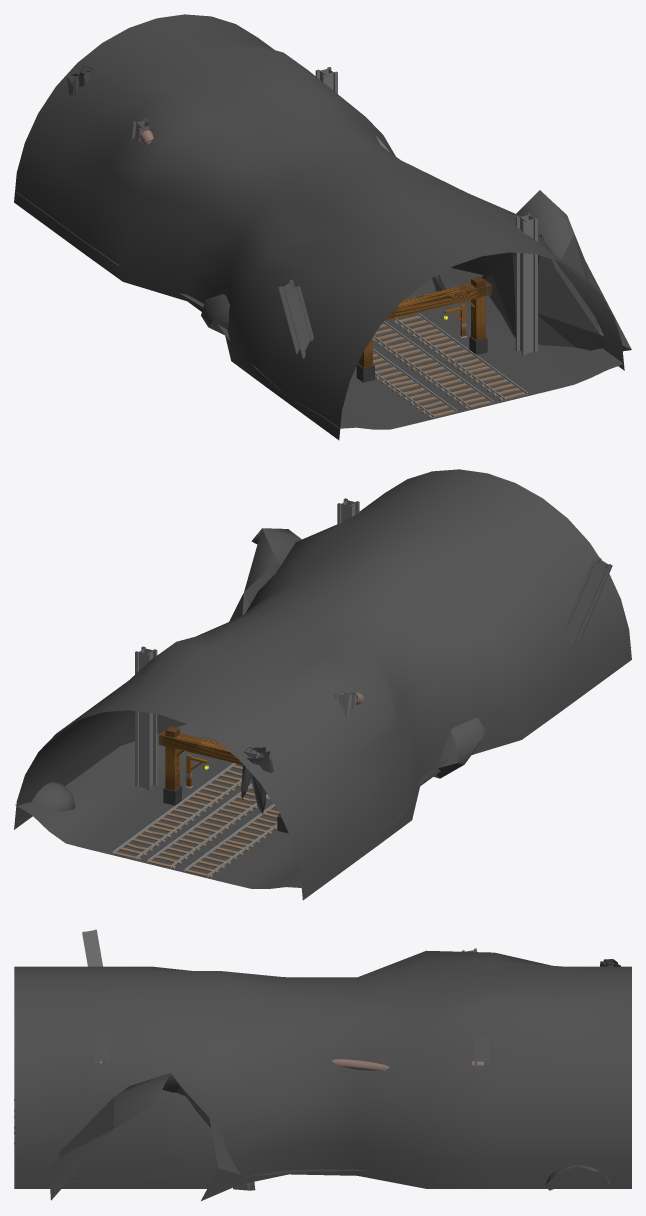
File: Modulo V2.fbx
3 views of the same model, one above another, from view 1: azimuth 30°, elevation 25°; view 2: azimuth 150°, elevation 25°; view 3: azimuth 270°, elevation 25° (orthographic). The views are drawn at different scales.
Visible parts, largest first — view 1: Cube.047; view 2: Cube.047; view 3: Cube.047.
Part boxes in pixels (box(x1,y1,x2,y2)): Cube.047: box(14, 14, 631, 440); Cube.047: box(14, 469, 631, 900); Cube.047: box(14, 929, 631, 1200).
Bounding box in the file's own units: 2794 × 1467 × 4762.
